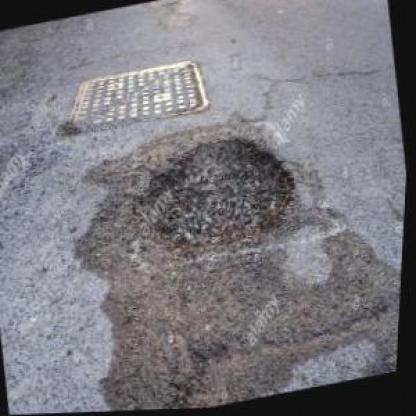pothole: (120, 124, 308, 268)
